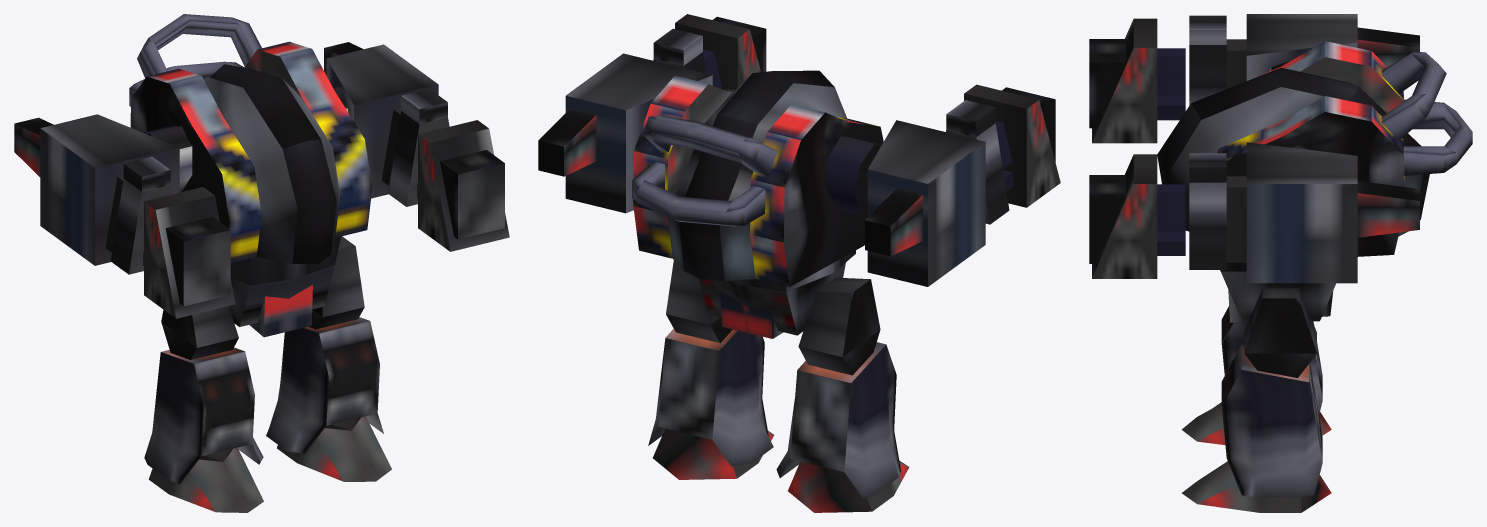
Rendered from armham_red.glb.
The picture shows the model from 3 angles, left to right: view 1: azimuth 30°, elevation 25°; view 2: azimuth 150°, elevation 25°; view 3: azimuth 270°, elevation 25°; orthographic projection. The views are drawn at different scales.
Visible parts, largest first — view 1: torso, rarm, larm, rleg, lleg, lbarrel, rbarrel, pelvis, rfoot, lfoot, rthigh, lthigh; view 2: torso, rarm, larm, rleg, lleg, rbarrel, rthigh, pelvis, lbarrel, rfoot, lfoot, lthigh; view 3: torso, larm, lleg, rarm, rbarrel, lbarrel, lthigh, lfoot, pelvis, rleg, rfoot.
Part boxes in pixels (<box>): torso: <box>129,14,372,263</box>; rarm: <box>14,114,179,274</box>; larm: <box>324,42,449,206</box>; rleg: <box>144,347,263,483</box>; lleg: <box>266,317,383,453</box>; lbarrel: <box>417,120,509,251</box>; rbarrel: <box>143,187,235,318</box>; pelvis: <box>228,236,340,337</box>; rfoot: <box>148,447,263,512</box>; lfoot: <box>277,416,391,481</box>; rthigh: <box>161,306,238,359</box>; lthigh: <box>308,236,364,329</box>; torso: <box>632,70,883,287</box>; rarm: <box>865,100,1009,286</box>; larm: <box>538,28,712,213</box>; rleg: <box>776,342,900,498</box>; lleg: <box>648,329,773,466</box>; rbarrel: <box>964,84,1060,207</box>; rthigh: <box>798,277,880,375</box>; pelvis: <box>699,250,855,338</box>; lbarrel: <box>675,14,766,90</box>; rfoot: <box>788,460,909,512</box>; lfoot: <box>653,428,774,479</box>; lthigh: <box>666,260,732,343</box>; torso: <box>1157,41,1472,256</box>; larm: <box>1189,142,1419,283</box>; lleg: <box>1221,344,1322,497</box>; rarm: <box>1189,14,1419,105</box>; rbarrel: <box>1089,18,1185,143</box>; lbarrel: <box>1089,154,1185,278</box>; lthigh: <box>1244,288,1316,377</box>; lfoot: <box>1182,461,1331,512</box>; pelvis: <box>1220,262,1335,322</box>; rleg: <box>1221,306,1322,414</box>; rfoot: <box>1181,402,1331,444</box>.
Size of the model in its own units: 26.23 by 28.52 by 24.99.
Materials: 1 (1 with a texture image).
